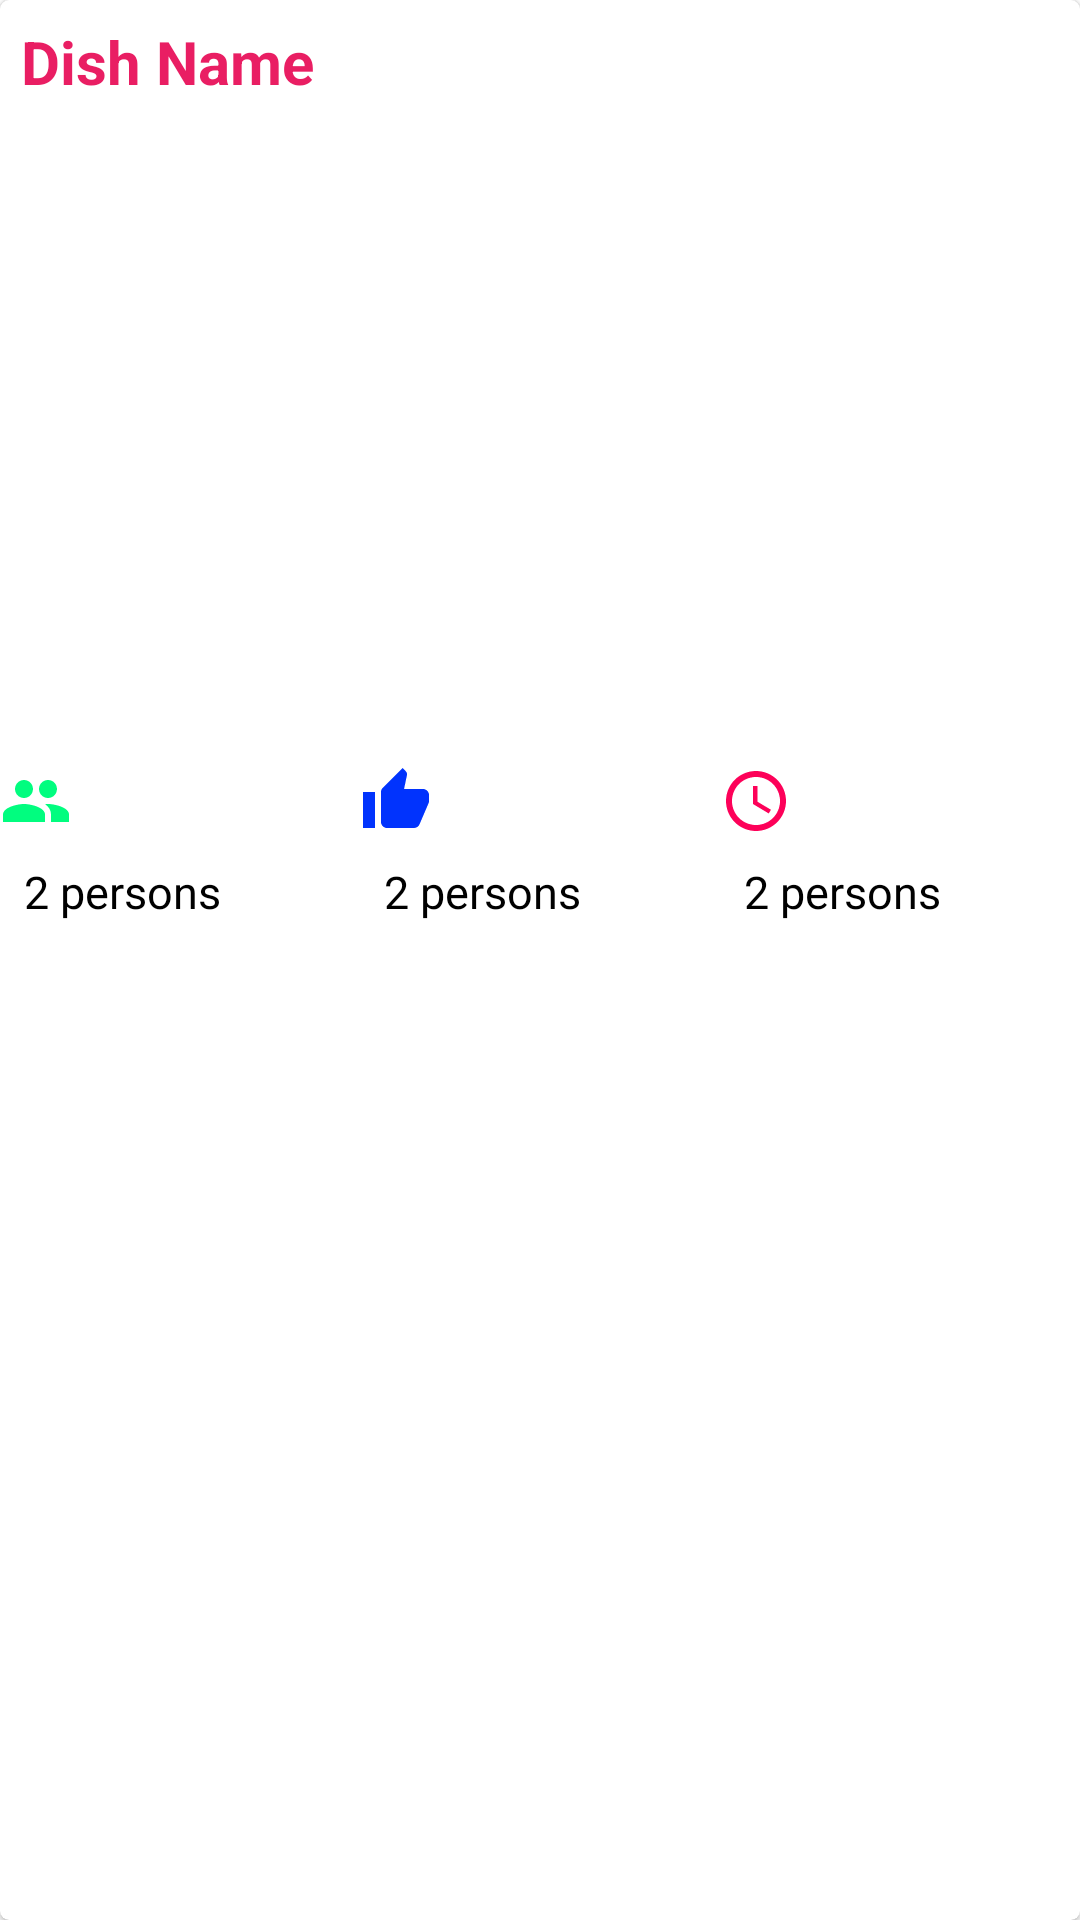

Point at icon controls on the screen. Image size 1080w x 1920h, points as point (x, y).
likes: point (396, 798)
serving: point (36, 801)
time: point (756, 801)
